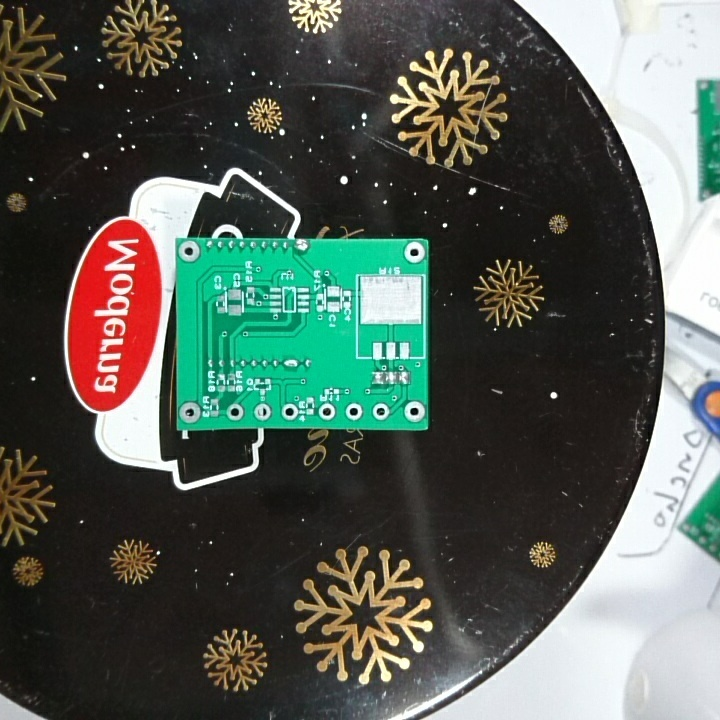F: (177, 238, 202, 264), (402, 240, 426, 266), (178, 400, 202, 424), (402, 399, 425, 423), (370, 401, 390, 423), (252, 401, 273, 421), (225, 400, 245, 421), (279, 400, 298, 422), (317, 401, 336, 420), (344, 400, 362, 420)
P: (280, 356, 302, 372), (292, 238, 313, 253)
